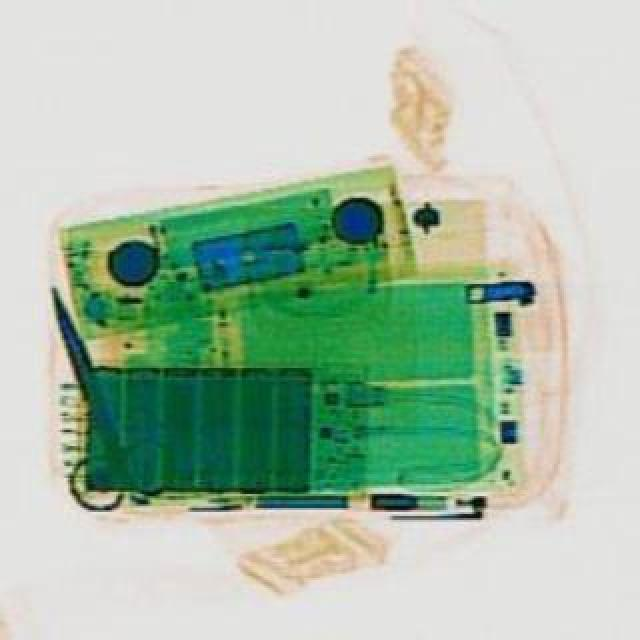pliers: (0, 266, 176, 514)
